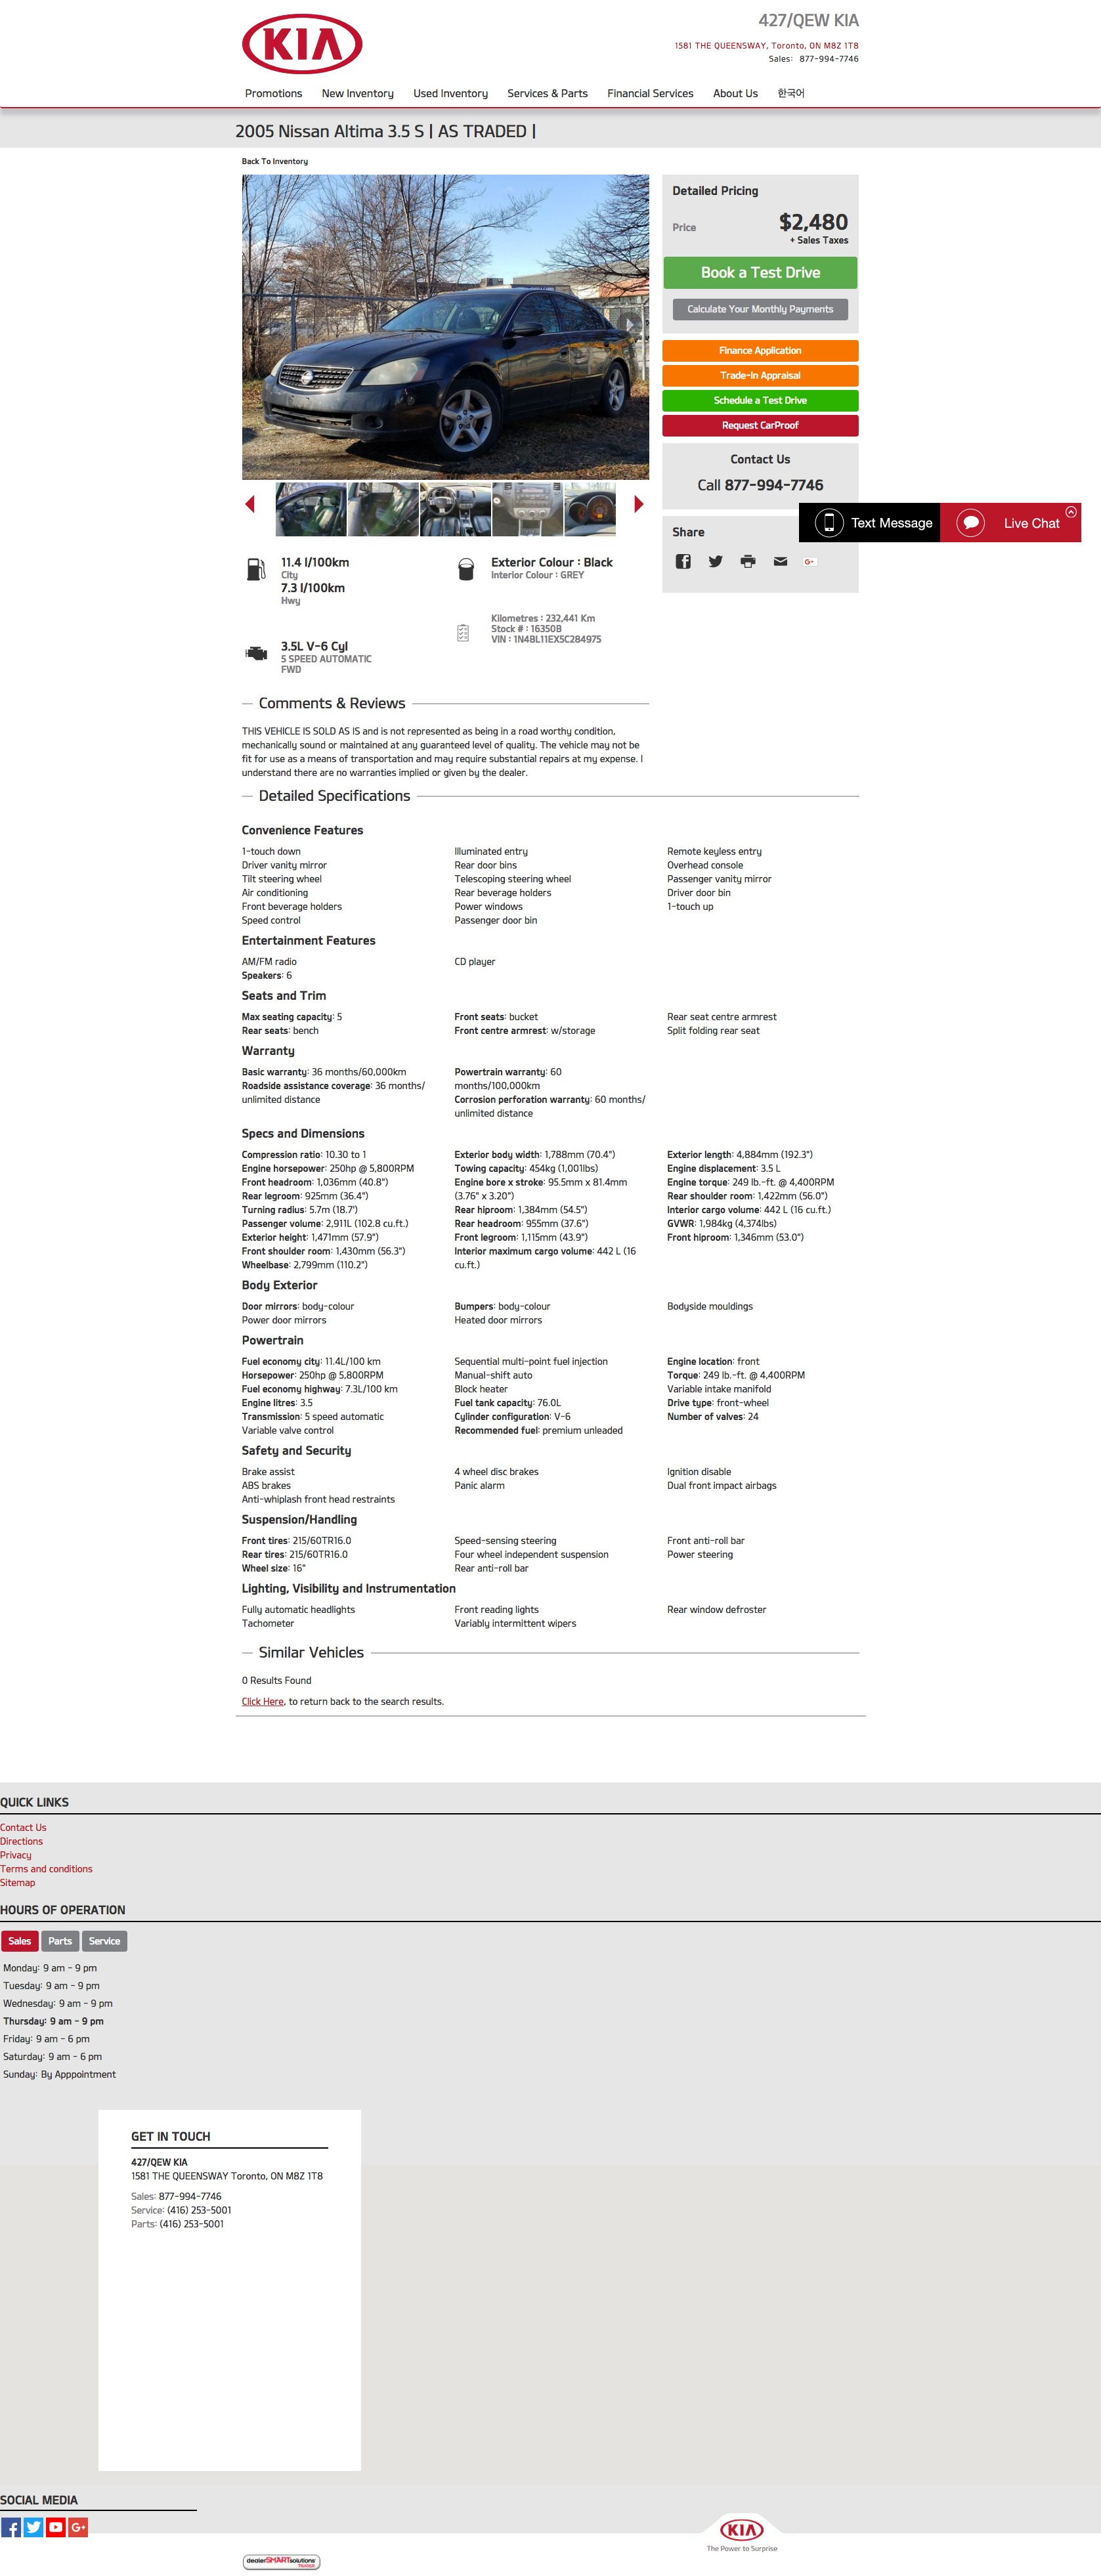car: (634, 496, 646, 514)
